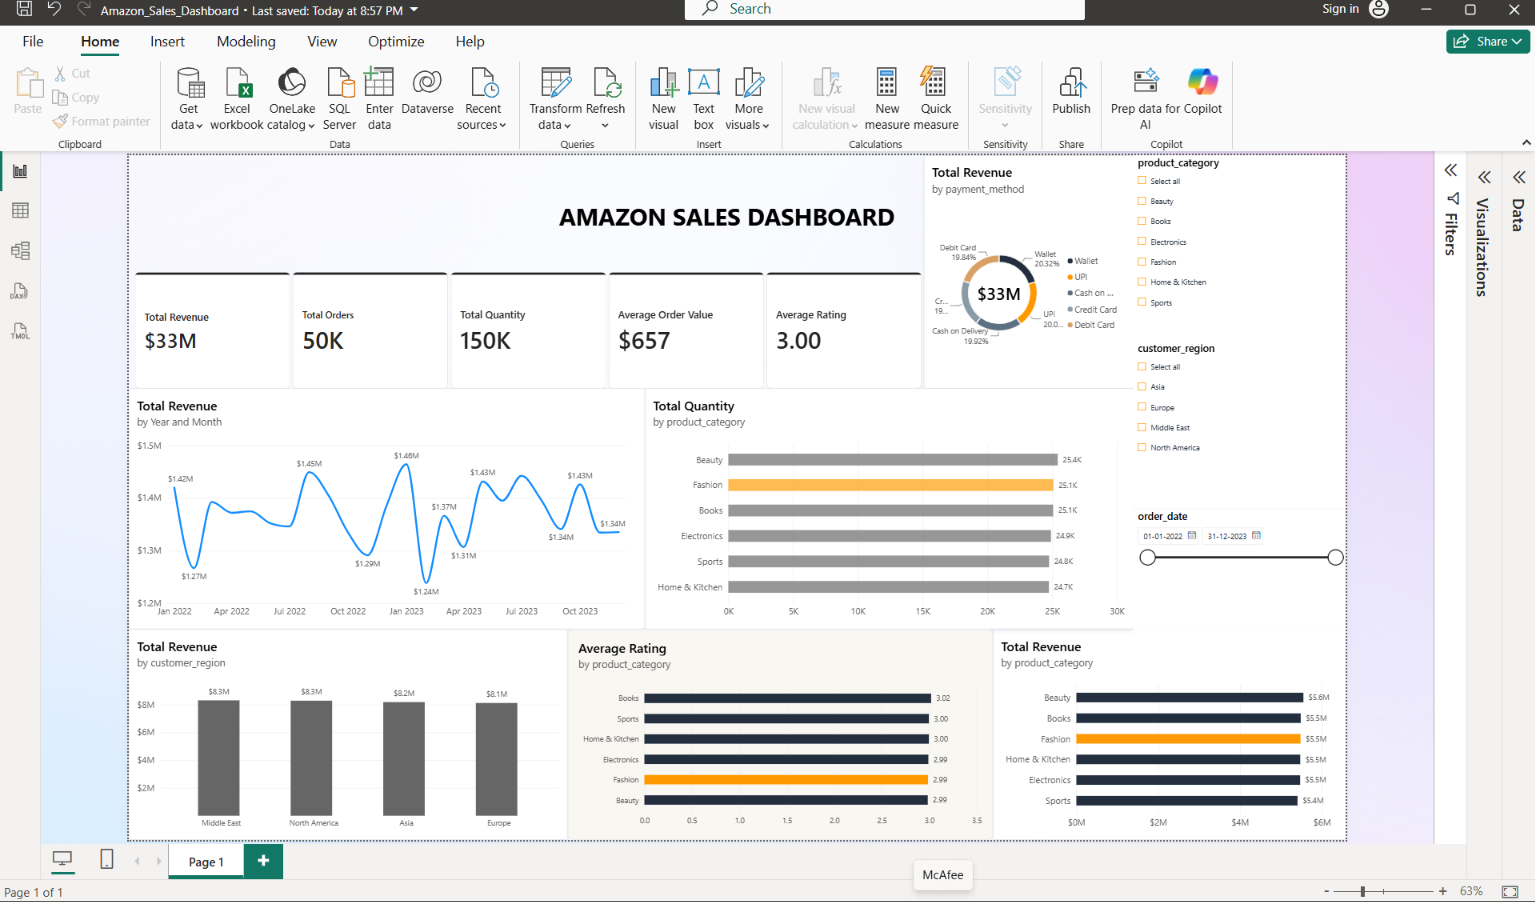

The dashboard page shown, as its layout file describes it:
{"tool":"powerbi","page":{"name":"Page 1","canvas":[1920,1080],"ordinal":0},"visuals":[{"type":"cardVisual","fields":{"Data":["amazon_sales_dataset.Total Revenue","amazon_sales_dataset.Total Orders","amazon_sales_dataset.Total Quantity","amazon_sales_dataset.Average Order Value","amazon_sales_dataset.Average Rating"]},"box":[10,184,1244,184],"z":1},{"type":"lineChart","fields":{"Category":["amazon_sales_dataset.order_date.Variation.Date Hierarchy.Year","amazon_sales_dataset.order_date.Variation.Date Hierarchy.Month"],"Y":["amazon_sales_dataset.Total Revenue"]},"box":[0,368,814,380],"z":2},{"type":"clusteredBarChart","fields":{"Category":["amazon_sales_dataset.product_category"],"Y":["amazon_sales_dataset.Total Revenue"]},"box":[1362,748,558,332],"z":4},{"type":"clusteredColumnChart","fields":{"Category":["amazon_sales_dataset.customer_region"],"Y":["amazon_sales_dataset.Total Revenue"]},"box":[0,748,692,332],"z":5},{"type":"donutChart","fields":{"Category":["amazon_sales_dataset.payment_method"],"Y":["amazon_sales_dataset.Total Revenue"]},"box":[1254,0,330,368],"z":6},{"type":"clusteredBarChart","fields":{"Category":["amazon_sales_dataset.product_category"],"Y":["amazon_sales_dataset.Total Quantity"]},"box":[814,368,770,380],"z":7},{"type":"clusteredBarChart","fields":{"Category":["amazon_sales_dataset.product_category"],"Y":["amazon_sales_dataset.Average Rating"]},"box":[692,748,670,332],"z":8},{"type":"slicer","fields":{"Values":["amazon_sales_dataset.product_category"]},"box":[1584,0,336,294],"z":9},{"type":"slicer","fields":{"Values":["amazon_sales_dataset.customer_region"]},"box":[1584,294,336,264],"z":10},{"type":"slicer","fields":{"Values":["amazon_sales_dataset.order_date"]},"box":[1584,558,336,190],"z":11},{"type":"textbox","box":[1094,1062,580,18],"z":12},{"type":"textbox","box":[582,0,722,156],"z":17}]}

Visuals, with their boxes on the page's 1920x1080 design canvas (x1, y1, x2, y2). These are canvas units, not pixel positions in the 1535x902 screenshot, which may show the page scaled, cropped or inside an application window:
cardVisual - amazon_sales_dataset.Total Revenue x amazon_sales_dataset.Total Orders: 10:184:1254:368
lineChart - amazon_sales_dataset.order_date.Variation.Date Hierarchy.Year x amazon_sales_dataset.order_date.Variation.Date Hierarchy.Month: 0:368:814:748
clusteredBarChart - amazon_sales_dataset.product_category x amazon_sales_dataset.Total Revenue: 1362:748:1920:1080
clusteredColumnChart - amazon_sales_dataset.customer_region x amazon_sales_dataset.Total Revenue: 0:748:692:1080
donutChart - amazon_sales_dataset.payment_method x amazon_sales_dataset.Total Revenue: 1254:0:1584:368
clusteredBarChart - amazon_sales_dataset.product_category x amazon_sales_dataset.Total Quantity: 814:368:1584:748
clusteredBarChart - amazon_sales_dataset.product_category x amazon_sales_dataset.Average Rating: 692:748:1362:1080
slicer - amazon_sales_dataset.product_category: 1584:0:1920:294
slicer - amazon_sales_dataset.customer_region: 1584:294:1920:558
slicer - amazon_sales_dataset.order_date: 1584:558:1920:748
textbox: 1094:1062:1674:1080
textbox: 582:0:1304:156
